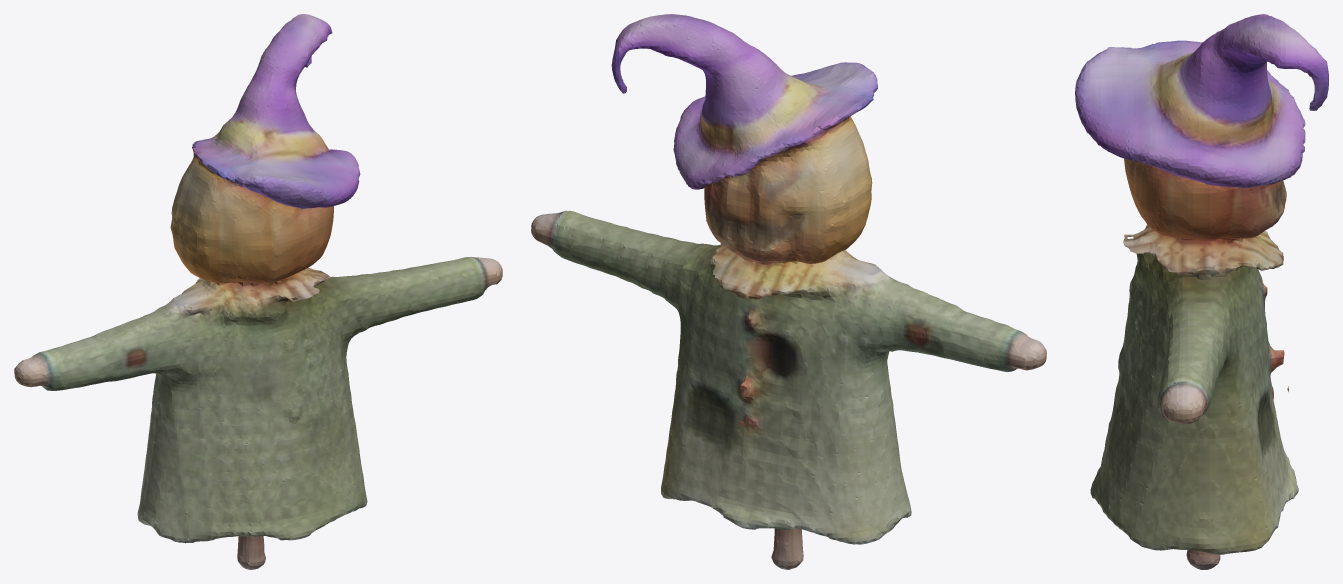
Rendered from scarecrow2.glb.
The picture shows the model from 3 angles, left to right: view 1: azimuth 30°, elevation 25°; view 2: azimuth 150°, elevation 25°; view 3: azimuth 270°, elevation 25°; orthographic projection. The views are drawn at different scales.
Parts seen in each view (by area): view 1: world; view 2: world; view 3: world.
Part boxes in pixels (x1,y1,x2,y2): world: [14, 14, 502, 569]; world: [531, 14, 1046, 569]; world: [1075, 14, 1328, 569].
Bounding box in the file's own units: 1.92 × 1.95 × 0.7648.
